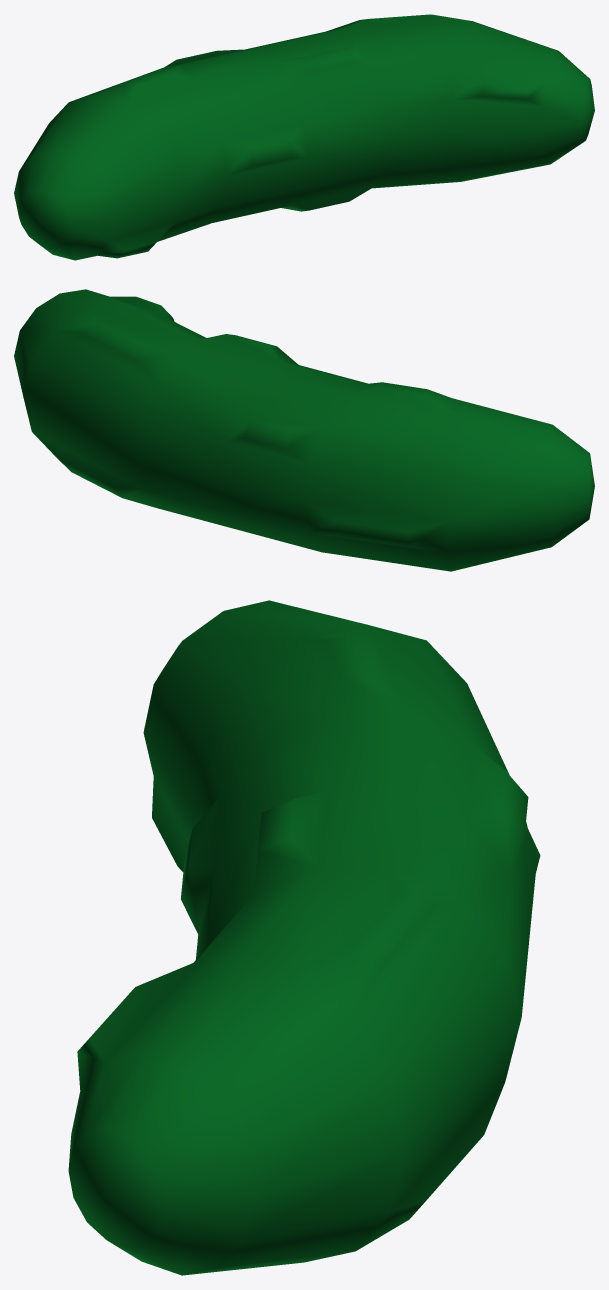
File: mesh_Pickle_FullPickle.fbx
3 renders of one model, top to bottom at view 1: azimuth 30°, elevation 25°; view 2: azimuth 150°, elevation 25°; view 3: azimuth 270°, elevation 25°, orthographic. The views are drawn at different scales.
Visible parts, largest first — view 1: mesh_Puckle_FullPickle; view 2: mesh_Puckle_FullPickle; view 3: mesh_Puckle_FullPickle.
Boxes of the visible parts, left/top/right/bottom form: mesh_Puckle_FullPickle: left=14, top=14, right=594, bottom=260; mesh_Puckle_FullPickle: left=14, top=289, right=594, bottom=571; mesh_Puckle_FullPickle: left=68, top=600, right=540, bottom=1275.
Size of the model in its own units: 0.1276 by 0.0356 by 0.0476.
